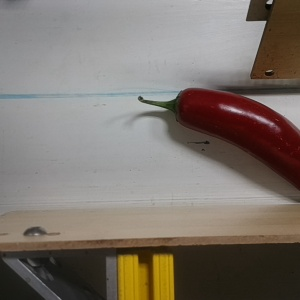Cut Point: (165, 86, 195, 129)
